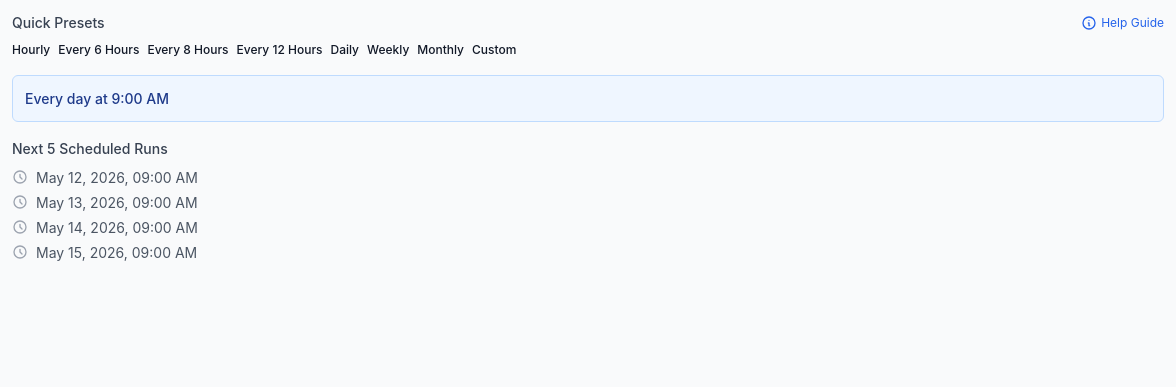
Test case: CronBuilder › Preset to Custom Mode Transition › should exit custom mode when preset is clicked
The width and height of the screenshot is (1176, 387).
# Enter custom mode
Click the button "Custom".
click(494, 50)  # box [472,41,516,59]
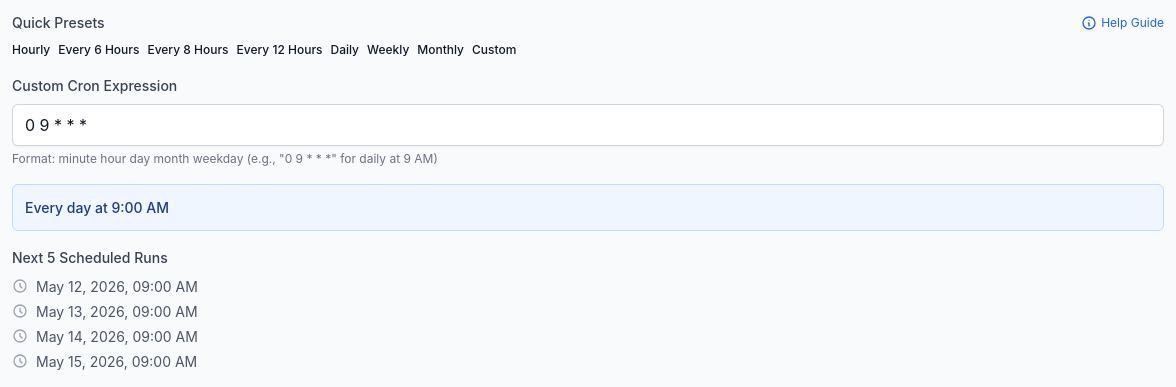
Expected: the field labelled "Custom Cron Expression" is shown, [12,104,1164,146]
# Click a preset
Click the button "Hourly".
click(31, 50)  # box [12,41,50,59]
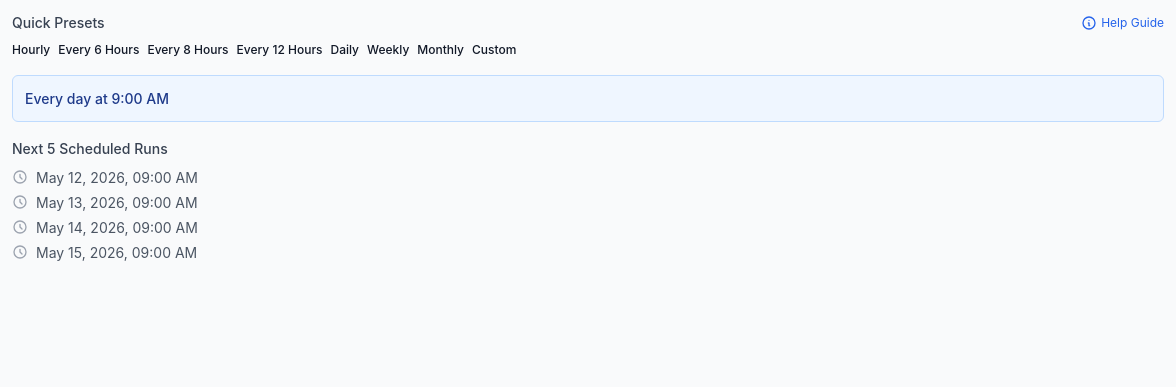
Expected: the label labelled "Custom Cron Expression" is gone
